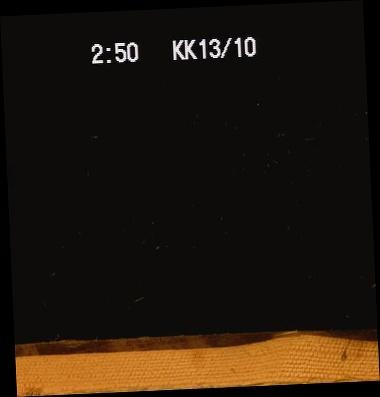wave: (15, 328, 377, 351)
